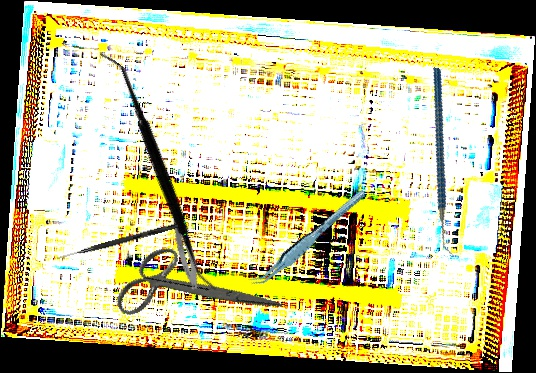Chopper: (382, 67, 508, 258)
Hook Surgical: (56, 221, 179, 263)
Iris Scissors: (103, 212, 283, 368)
Micro Scissor: (157, 178, 204, 291)
Spatula Surgical: (26, 51, 292, 294)
Tissue Forceps: (241, 188, 376, 291)
